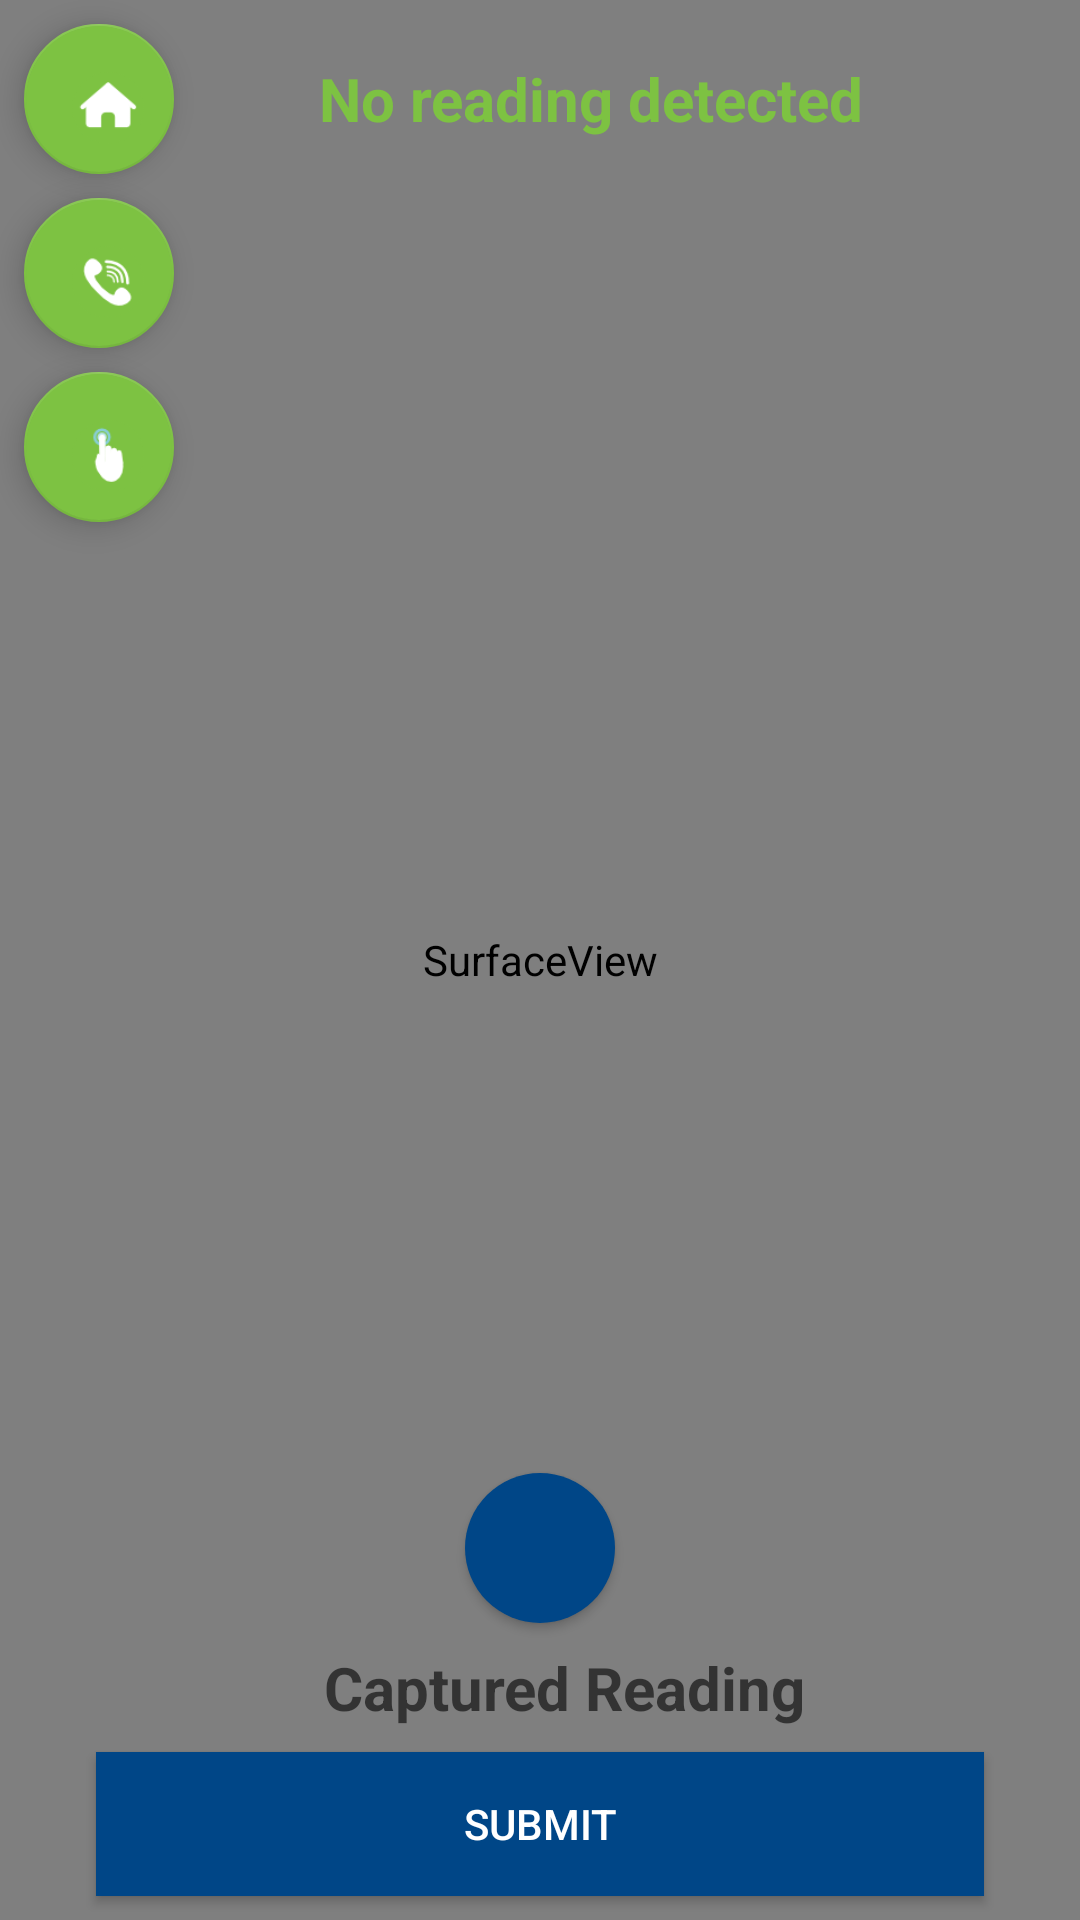

Icons on this 1080w x 1920h Android screen, each with the point to tap as (x=x, y=y):
home: (x=99, y=99)
tap gr: (x=99, y=447)
telephone gr: (x=99, y=273)
